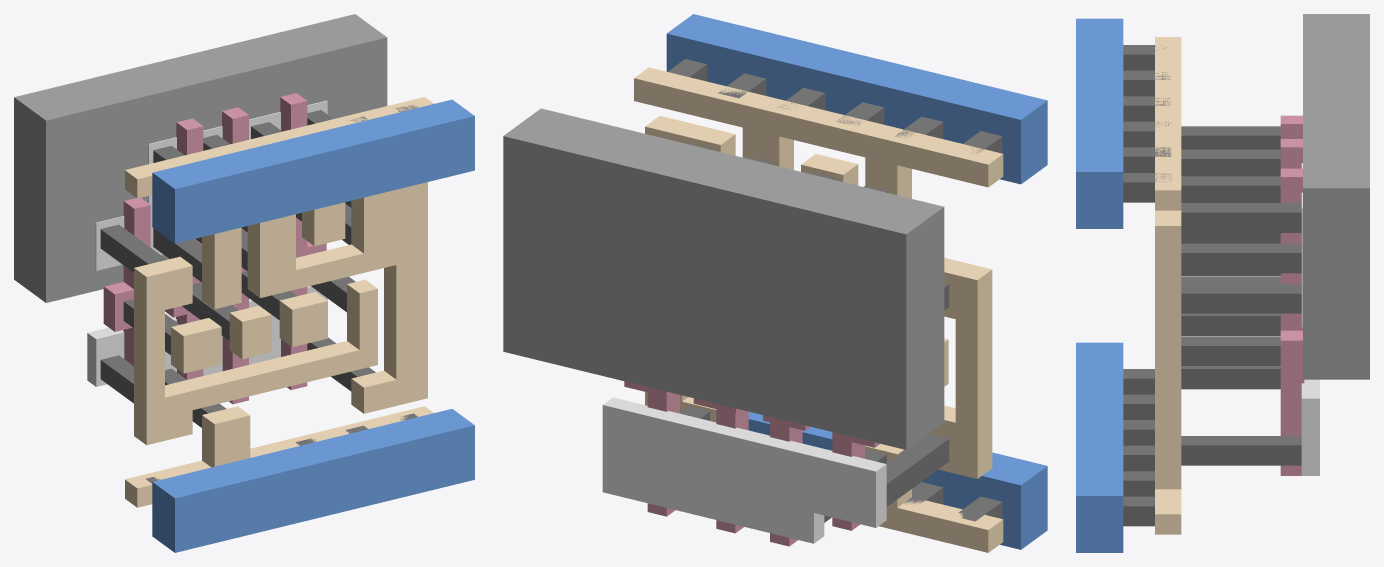
Rendered from sky130_fd_sc_hd__nand3b_1.gds.gltf.
3 views of the same model, side by side, from view 1: azimuth 30°, elevation 25°; view 2: azimuth 150°, elevation 25°; view 3: azimuth 270°, elevation 25° (orthographic). The views are drawn at different scales.
Visible parts, largest first — view 1: sky130_fd_sc_hd__nand3b_1_li1, sky130_fd_sc_hd__nand3b_1_met1, sky130_fd_sc_hd__nand3b_1_nwell, sky130_fd_sc_hd__nand3b_1_licon, sky130_fd_sc_hd__nand3b_1_poly, sky130_fd_sc_hd__nand3b_1_diff; view 2: sky130_fd_sc_hd__nand3b_1_nwell, sky130_fd_sc_hd__nand3b_1_li1, sky130_fd_sc_hd__nand3b_1_met1, sky130_fd_sc_hd__nand3b_1_diff, sky130_fd_sc_hd__nand3b_1_mcon, sky130_fd_sc_hd__nand3b_1_poly, sky130_fd_sc_hd__nand3b_1_licon; view 3: sky130_fd_sc_hd__nand3b_1_licon, sky130_fd_sc_hd__nand3b_1_nwell, sky130_fd_sc_hd__nand3b_1_met1, sky130_fd_sc_hd__nand3b_1_li1, sky130_fd_sc_hd__nand3b_1_mcon, sky130_fd_sc_hd__nand3b_1_poly, sky130_fd_sc_hd__nand3b_1_diff.
Part boxes in pixels (box(x1,y1,x2,y2)): sky130_fd_sc_hd__nand3b_1_li1: box(125, 97, 433, 507); sky130_fd_sc_hd__nand3b_1_met1: box(152, 99, 474, 552); sky130_fd_sc_hd__nand3b_1_nwell: box(14, 14, 387, 302); sky130_fd_sc_hd__nand3b_1_licon: box(100, 110, 375, 427); sky130_fd_sc_hd__nand3b_1_poly: box(103, 93, 326, 404); sky130_fd_sc_hd__nand3b_1_diff: box(87, 100, 327, 386); sky130_fd_sc_hd__nand3b_1_nwell: box(503, 108, 944, 449); sky130_fd_sc_hd__nand3b_1_li1: box(634, 67, 1003, 552); sky130_fd_sc_hd__nand3b_1_met1: box(666, 14, 1047, 549); sky130_fd_sc_hd__nand3b_1_diff: box(602, 397, 886, 543); sky130_fd_sc_hd__nand3b_1_mcon: box(668, 59, 1002, 521); sky130_fd_sc_hd__nand3b_1_poly: box(624, 381, 879, 546); sky130_fd_sc_hd__nand3b_1_licon: box(680, 143, 949, 522); sky130_fd_sc_hd__nand3b_1_licon: box(1181, 126, 1301, 465); sky130_fd_sc_hd__nand3b_1_nwell: box(1303, 14, 1369, 379); sky130_fd_sc_hd__nand3b_1_met1: box(1076, 18, 1123, 552); sky130_fd_sc_hd__nand3b_1_li1: box(1155, 37, 1181, 534); sky130_fd_sc_hd__nand3b_1_mcon: box(1123, 45, 1171, 526); sky130_fd_sc_hd__nand3b_1_poly: box(1280, 115, 1304, 475); sky130_fd_sc_hd__nand3b_1_diff: box(1301, 163, 1319, 475).
Bounding box in the file's own units: 3.14 × 3.2 × 2.24.
